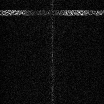wifi: (1, 9, 104, 15)
